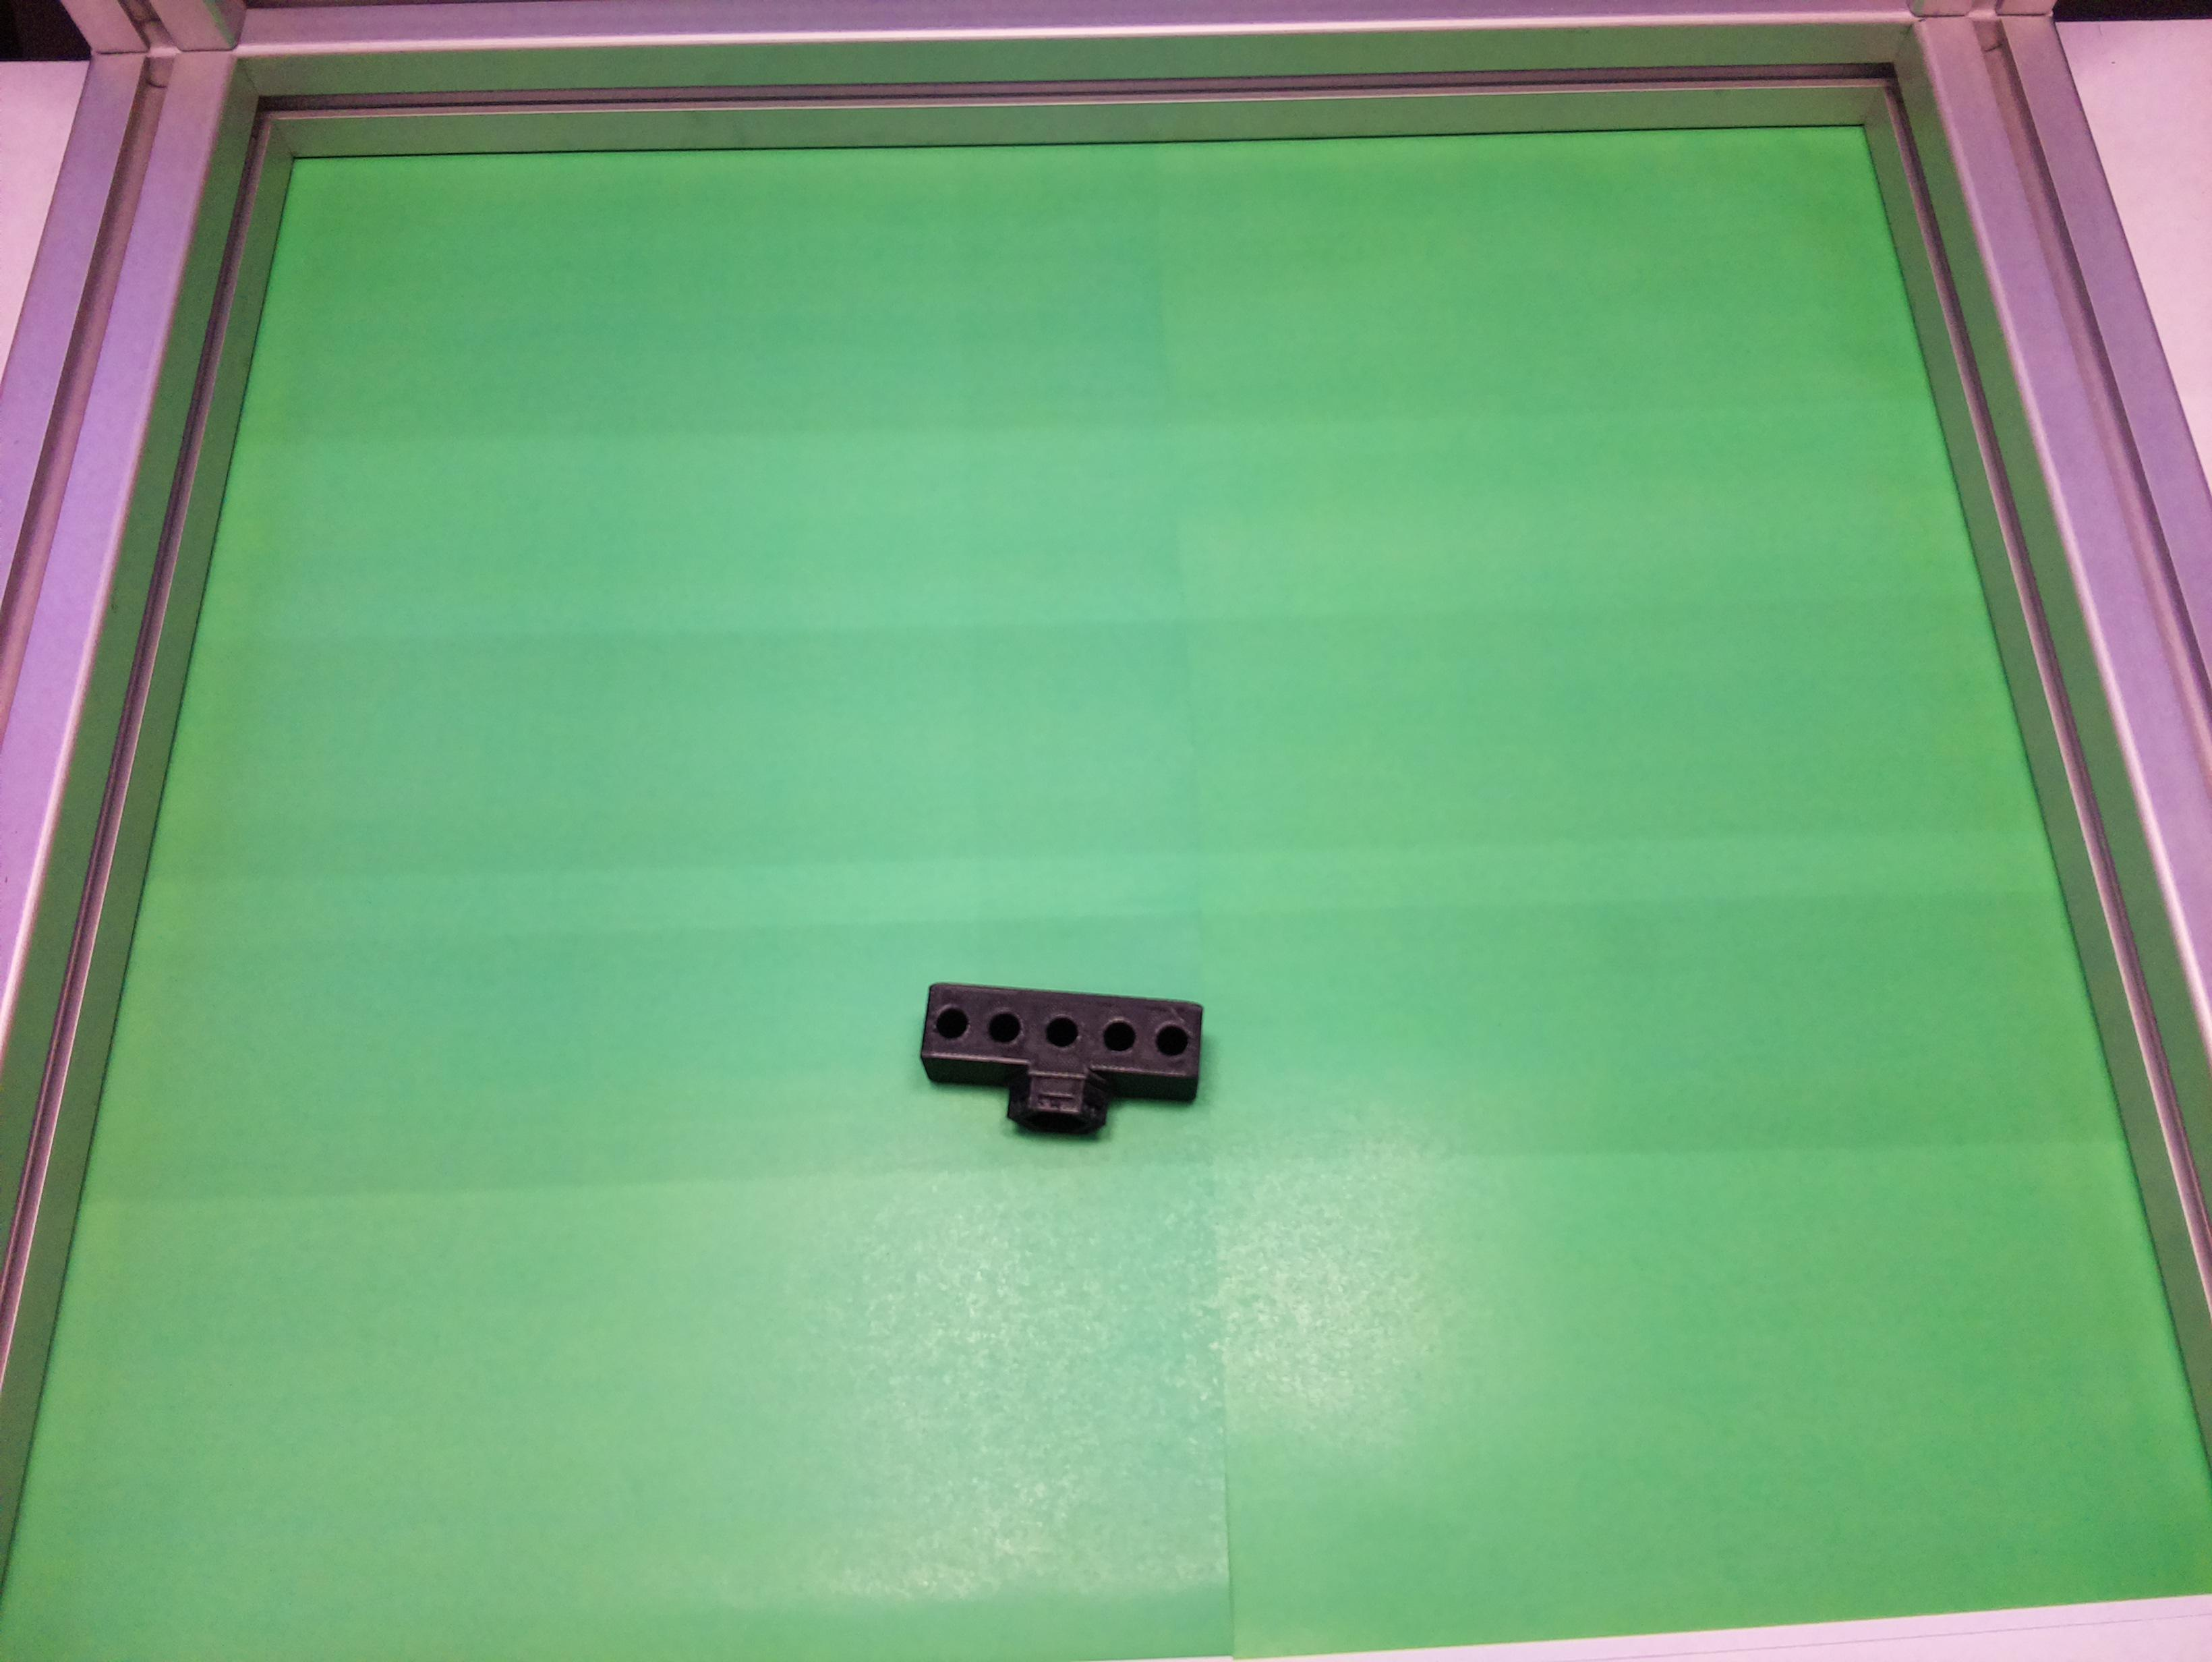bit_holder: (915, 981, 1205, 1143)
